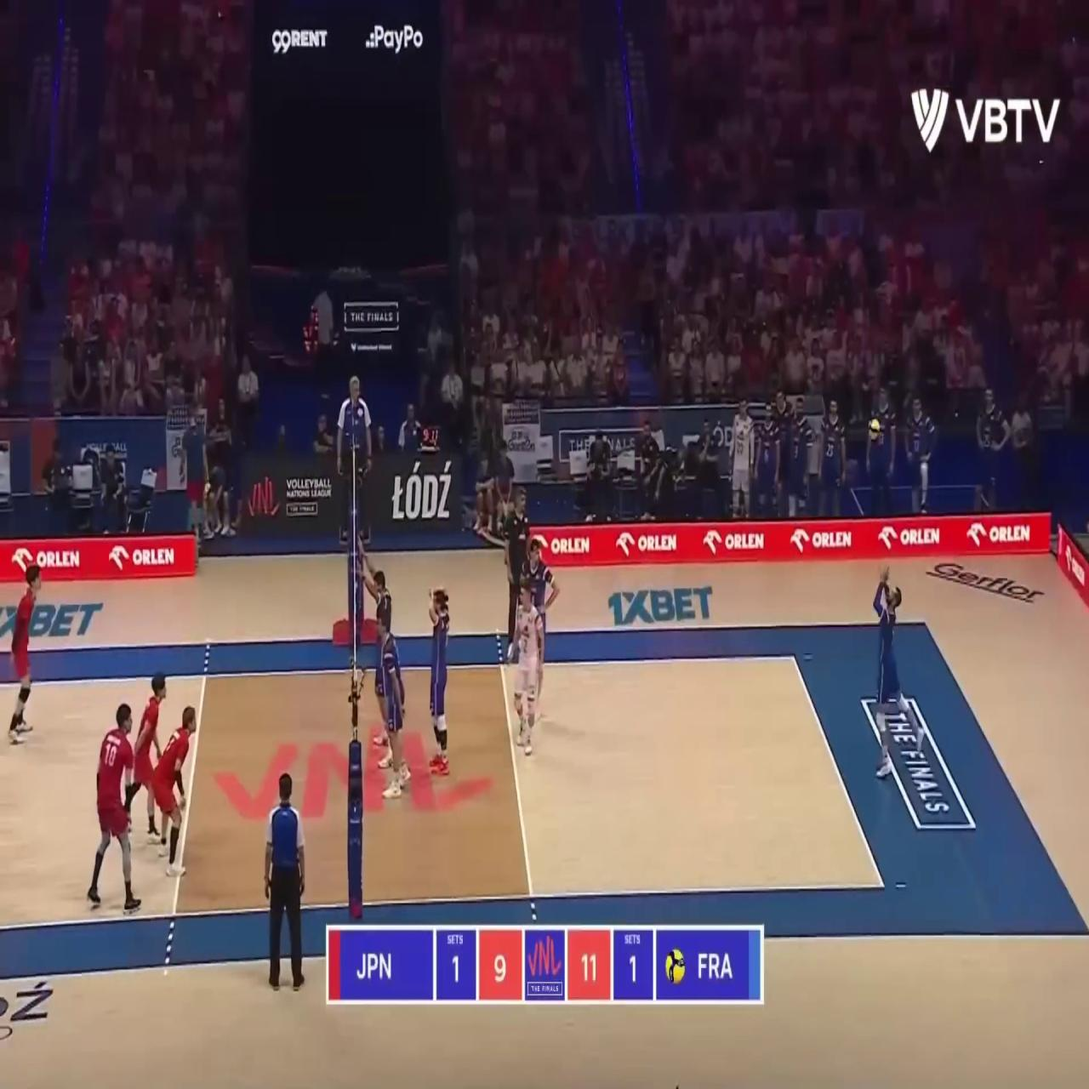ball: (869, 420, 880, 440)
